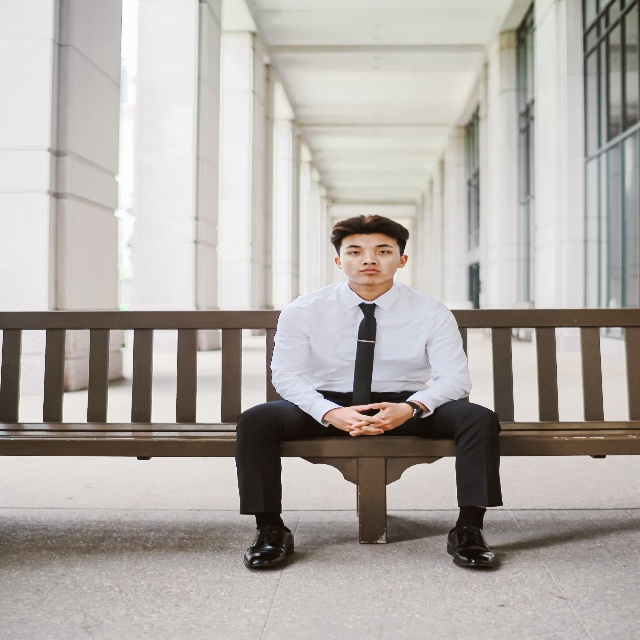Sin_guantes: (349, 400, 412, 437), (328, 402, 386, 437)
